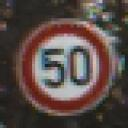speed_limit_50: (14, 16, 120, 118)
